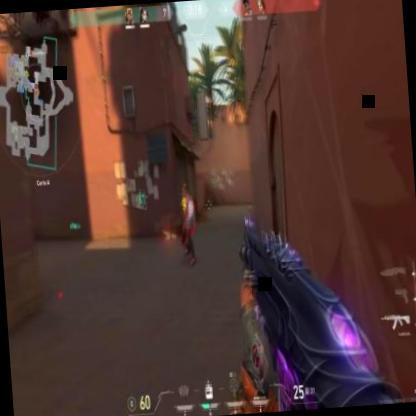enemy: (178, 182, 199, 266)
enemy_head: (182, 184, 189, 198)
